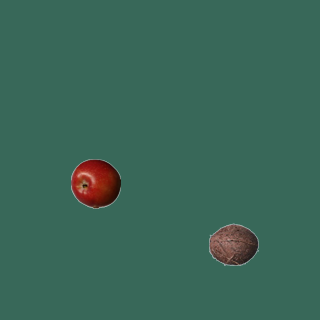Apple Braeburn: (70, 158, 120, 208)
Cocos: (208, 219, 258, 269)
